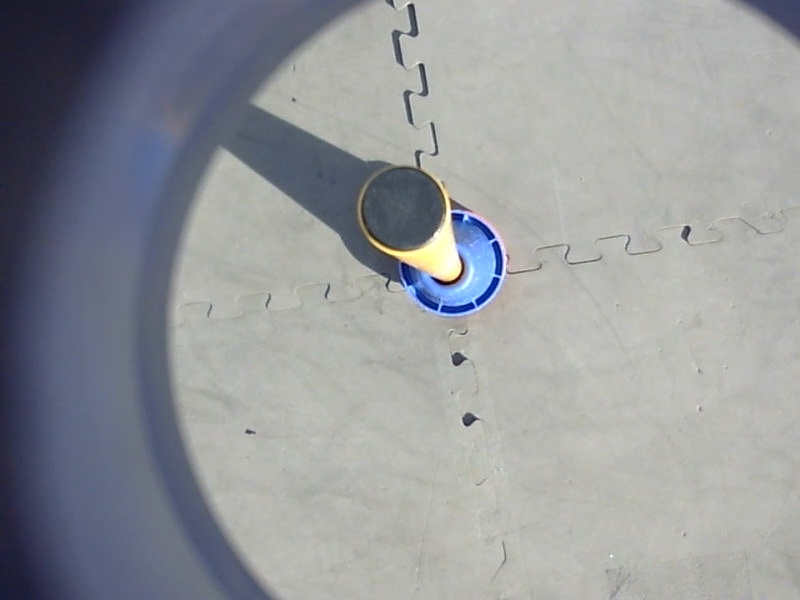tip: (350, 160, 454, 259)
